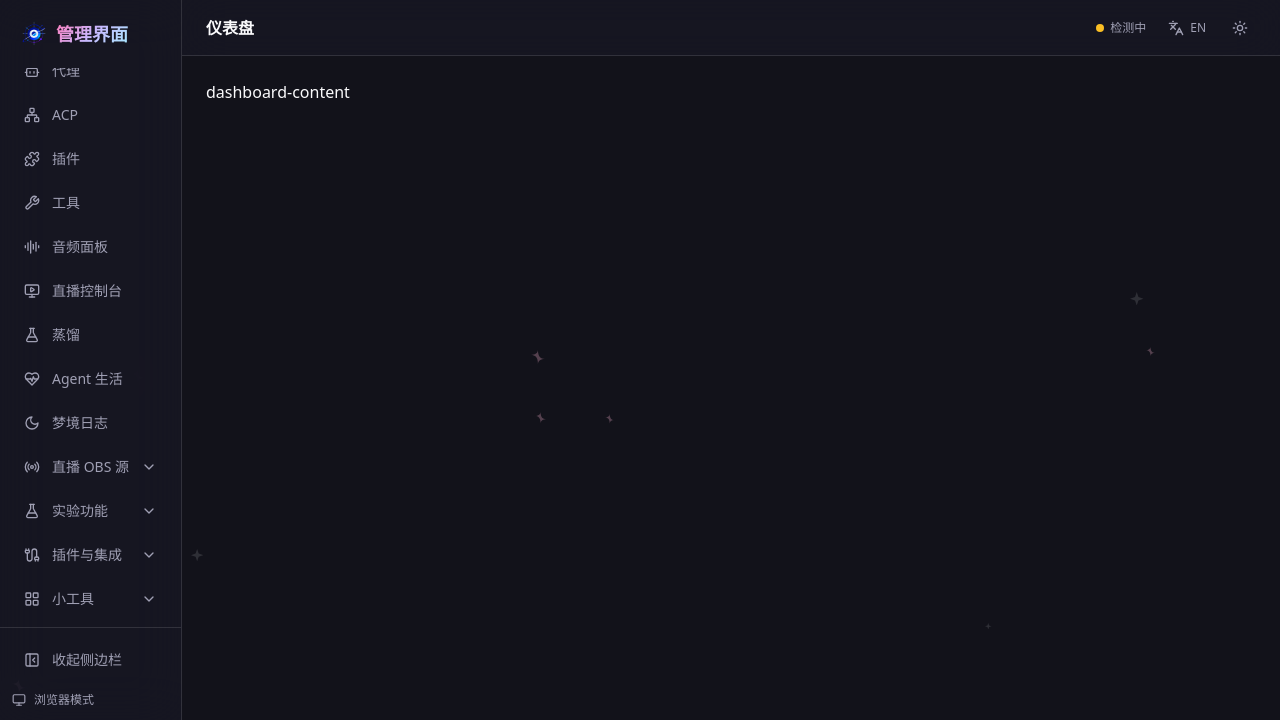
Test case: ManagementLayout 增强侧边栏 › E. 实验功能组仅含微调/哨兵集群/Neko插件/会议室，不含 Agent 生活/梦境日志（Task 7）
(page scrolled)
Expected: the text "Agent 生活" is shown once, [52,369,123,389]
Expected: the text "梦境日志" is shown once, [52,413,108,433]
# 展开实验功能组：四个成员可见
Click the button "实验功能" at (90, 511), box [12,491,169,531]
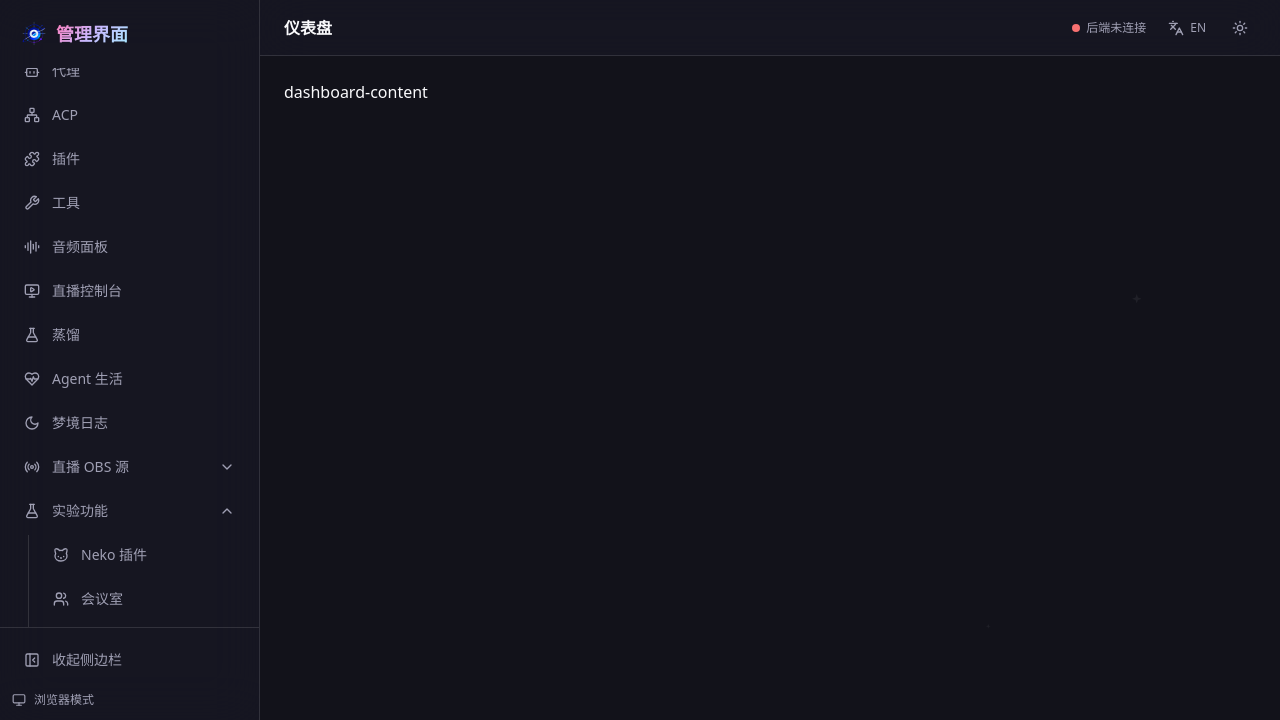
Expected: the text "Agent 生活" is shown once, [52,369,123,389]
Result: the text "Neko 插件" is shown at [81,545,147,565]
Result: the text "会议室" is shown at [81,589,123,609]
